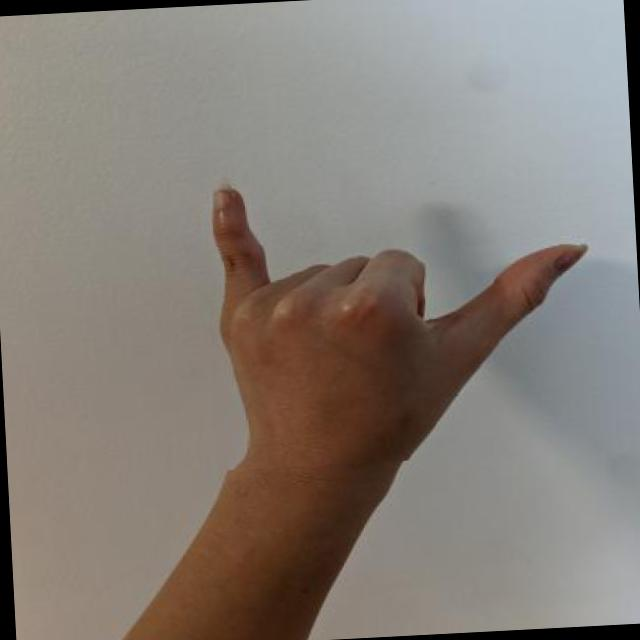Y: (198, 154, 604, 470)
